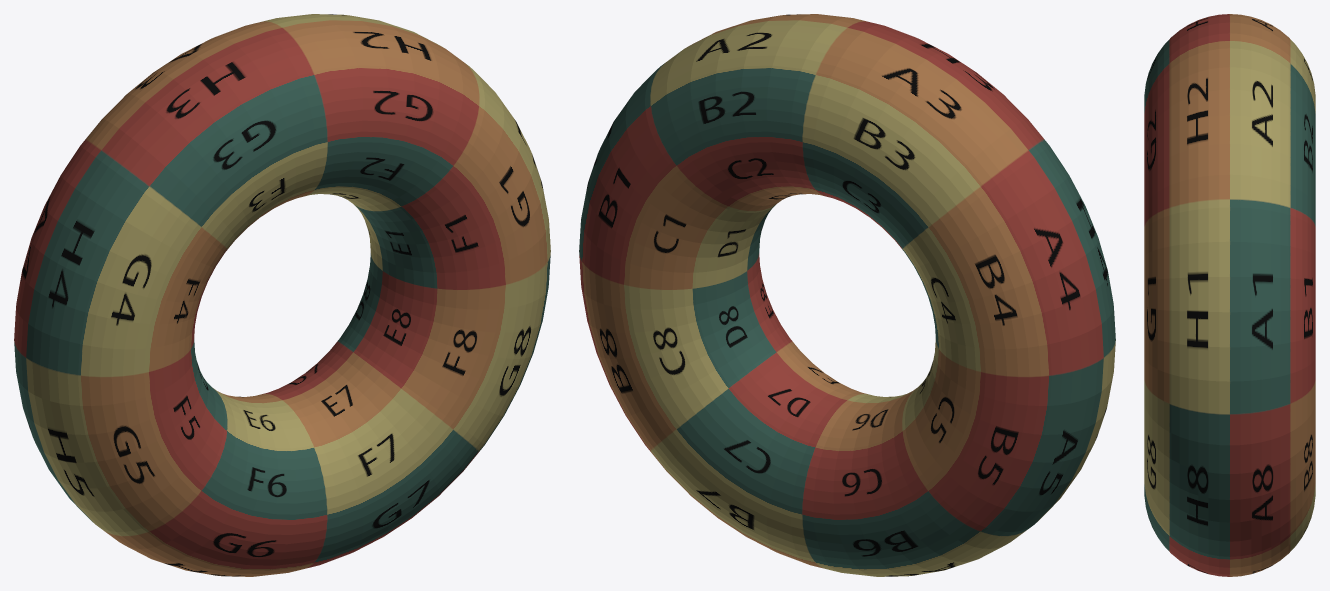
The model's file is texture_torus_R1_r10.glb.
The picture shows the model from 3 angles, left to right: view 1: azimuth 30°, elevation 25°; view 2: azimuth 150°, elevation 25°; view 3: azimuth 270°, elevation 25°; orthographic projection. The views are drawn at different scales.
Visible parts, largest first — view 1: world; view 2: world; view 3: world.
Boxes of the visible parts, bbox=[...] form: world: bbox=[14, 14, 550, 576]; world: bbox=[579, 14, 1115, 576]; world: bbox=[1144, 14, 1315, 576].
Size of the model in its own units: 15.33 by 15.3 by 4.66.
1 material, 1 textured.
